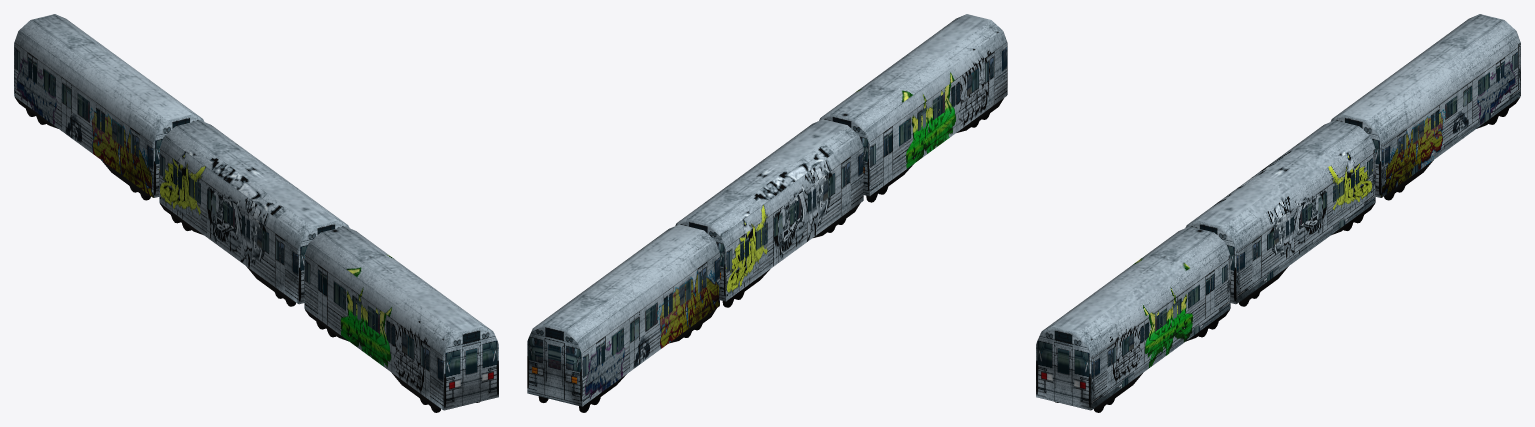
Rendered from SubwayCarts.glb.
3 views of the same model, side by side, from view 1: azimuth 30°, elevation 25°; view 2: azimuth 150°, elevation 25°; view 3: azimuth 330°, elevation 25° (orthographic).
Visible parts, largest first — view 1: SubwayCarts; view 2: SubwayCarts; view 3: SubwayCarts.
Boxes of the visible parts, bbox=[...] form: SubwayCarts: bbox=[14, 14, 498, 412]; SubwayCarts: bbox=[527, 14, 1007, 412]; SubwayCarts: bbox=[1036, 14, 1520, 412].
Size of the model in its own units: 5.98 by 9 by 80.
Materials: 9 (3 with a texture image).
